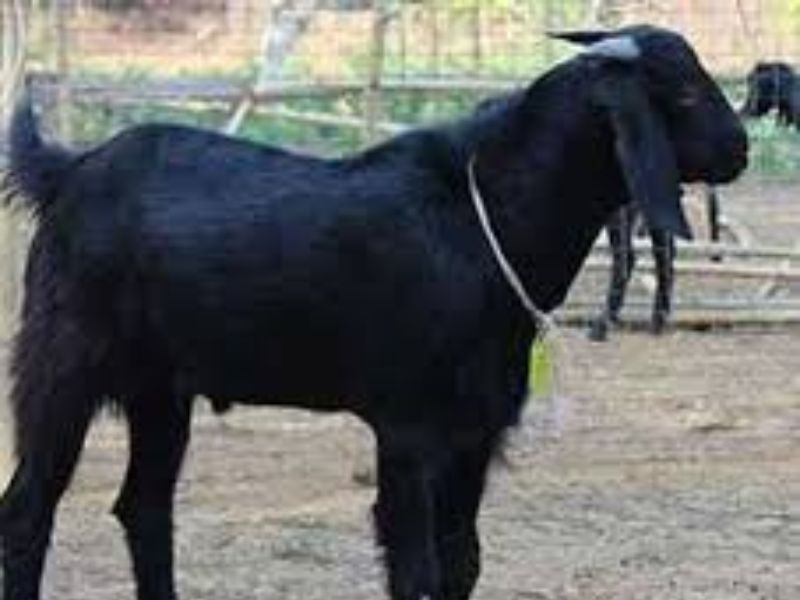goat: (10, 26, 755, 592)
